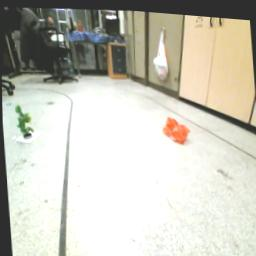herb: (14, 102, 35, 140)
wild: (161, 111, 192, 144)
